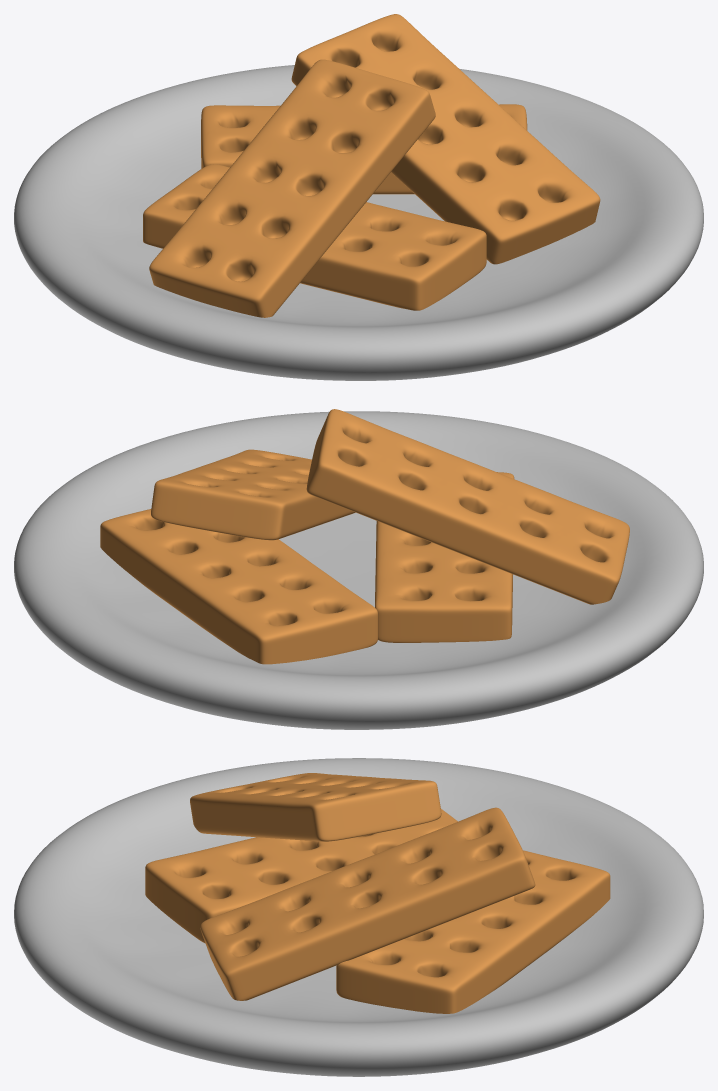
File: shortbread-3d-icon-683564226875.glb
3 renders of one model, top to bottom at view 1: azimuth 30°, elevation 25°; view 2: azimuth 150°, elevation 25°; view 3: azimuth 270°, elevation 25°, orthographic.
Visible parts, largest first — view 1: Plate, Shortbread; view 2: Plate, Shortbread; view 3: Plate, Shortbread.
Boxes of the visible parts, x1=… form: Plate: x1=14, y1=65, x2=703, y2=380; Shortbread: x1=143, y1=14, x2=600, y2=317; Plate: x1=14, y1=411, x2=703, y2=729; Shortbread: x1=100, y1=409, x2=629, y2=664; Plate: x1=14, y1=758, x2=703, y2=1076; Shortbread: x1=145, y1=773, x2=610, y2=1013.
Size of the model in its own units: 1.96 by 0.5805 by 1.96.
